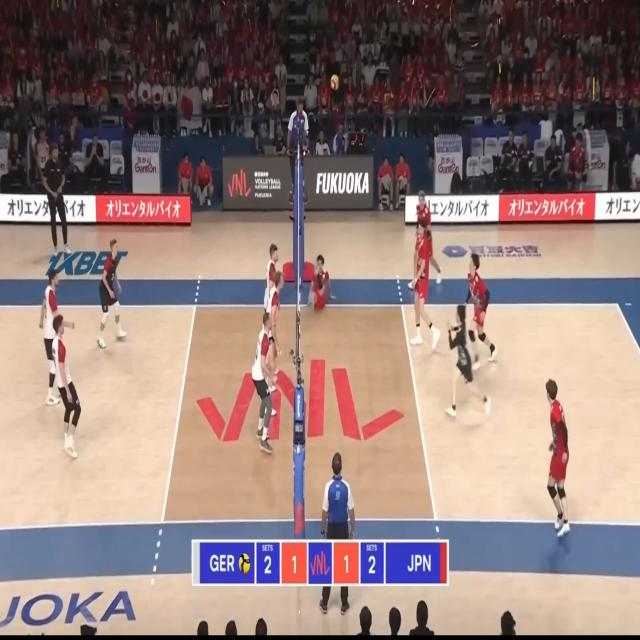ball: (332, 74, 339, 90)
